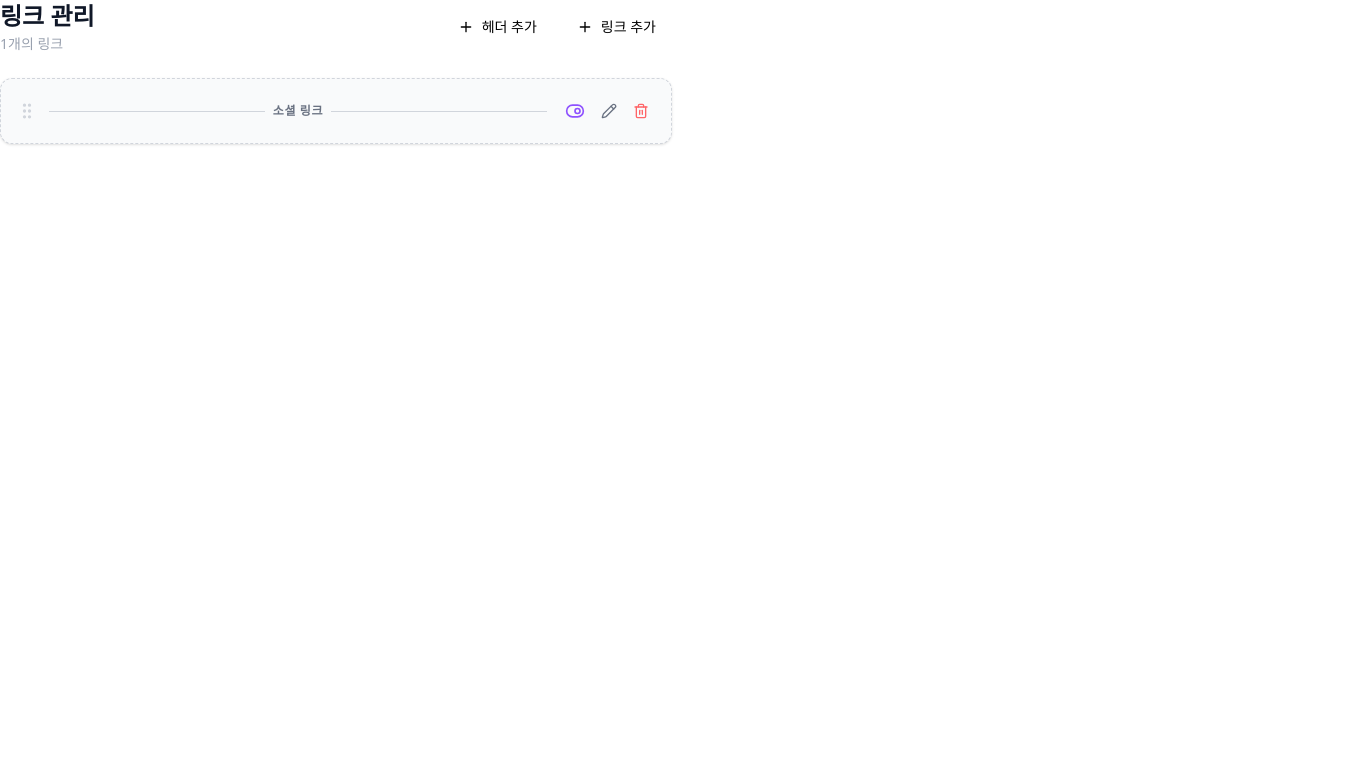
LinkType - 헤더 타입 링크 › 헤더 추가 버튼 클릭 시 헤더 타입이 선택된 모달이 열린다
Click the button "헤더 추가".
click(497, 27)  # box x1=442 y1=7 x2=553 y2=47
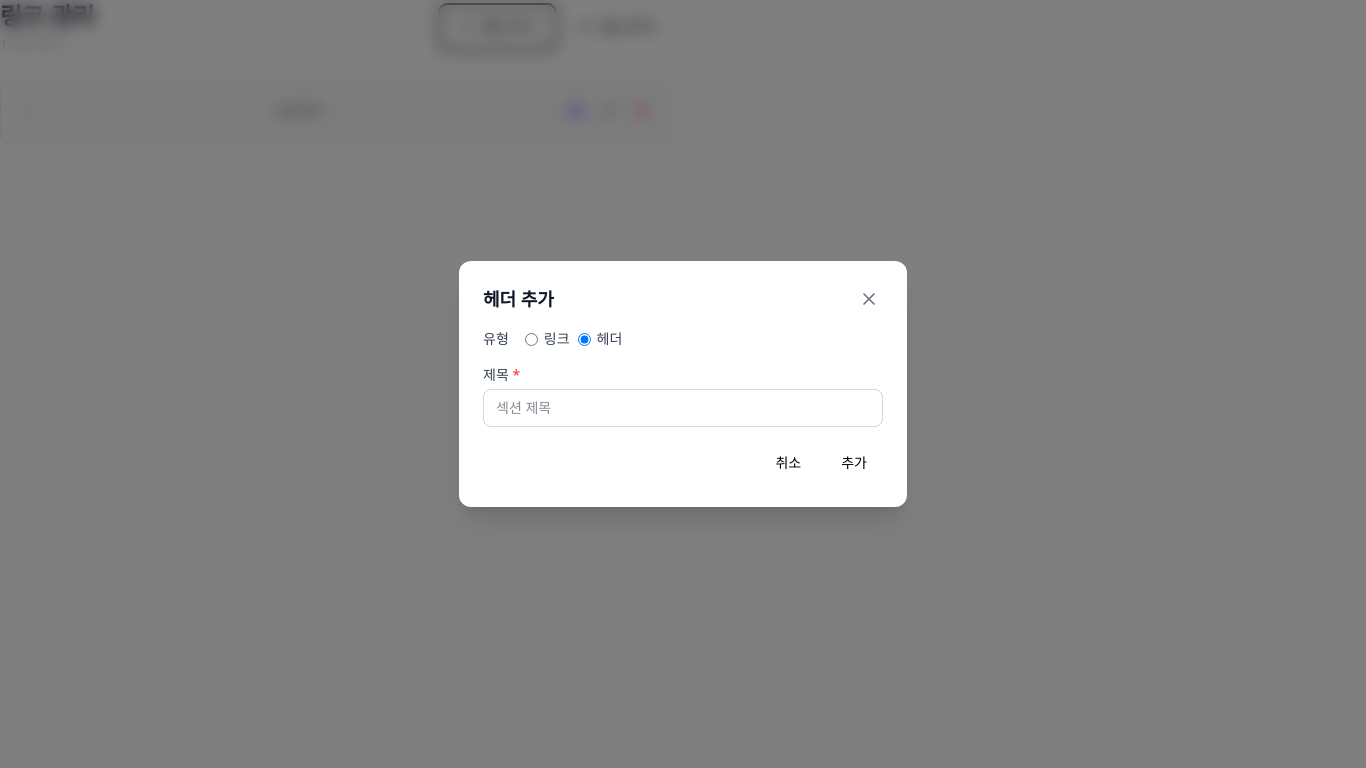
Check: the radio button showing "header" is checked, box x1=578 y1=332 x2=590 y2=346
